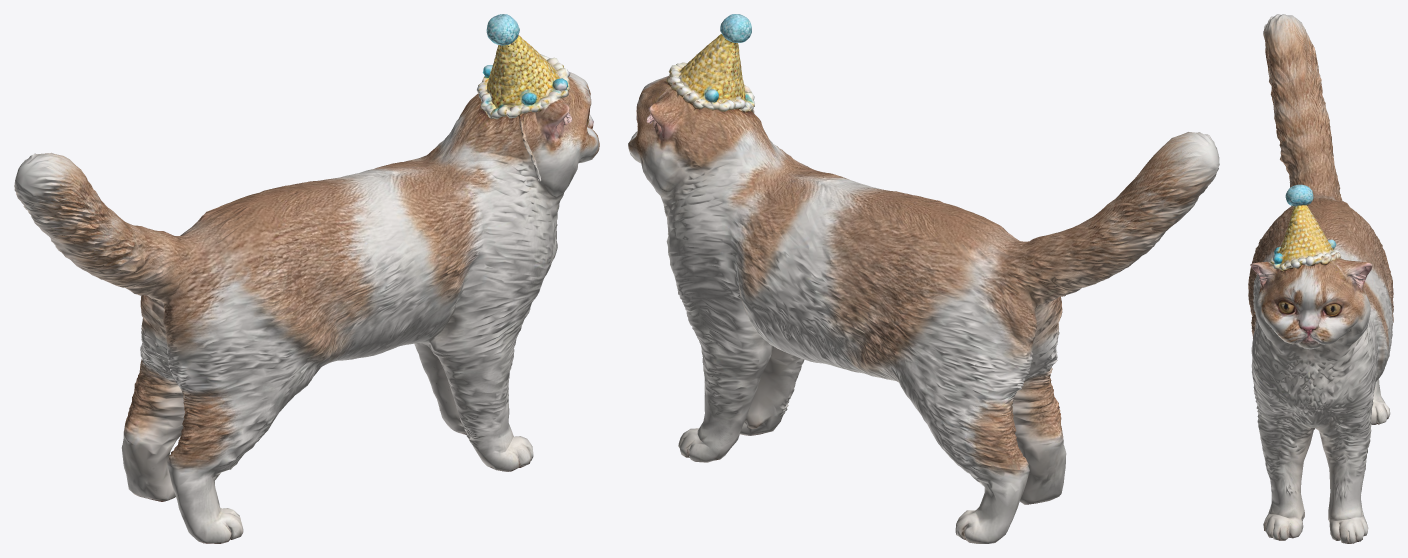
File: HOICHAN.glb
The picture shows the model from 3 angles, left to right: view 1: azimuth 30°, elevation 25°; view 2: azimuth 150°, elevation 25°; view 3: azimuth 270°, elevation 25°; orthographic projection. The views are drawn at different scales.
Visible parts, largest first — view 1: tripo_node_4b0c2379-7976-472d-91b7-7c4e765e8411; view 2: tripo_node_4b0c2379-7976-472d-91b7-7c4e765e8411; view 3: tripo_node_4b0c2379-7976-472d-91b7-7c4e765e8411.
Boxes of the visible parts, <box> form: tripo_node_4b0c2379-7976-472d-91b7-7c4e765e8411: <box>14,14,599,543</box>; tripo_node_4b0c2379-7976-472d-91b7-7c4e765e8411: <box>628,14,1219,543</box>; tripo_node_4b0c2379-7976-472d-91b7-7c4e765e8411: <box>1248,14,1393,543</box>.
Bounding box in the file's own units: 1.4 × 0.9977 × 0.3746.
Materials: 1 (1 with a texture image).
